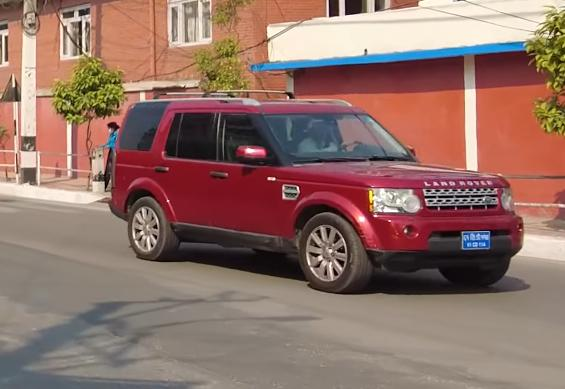SUV: (94, 82, 527, 302)
